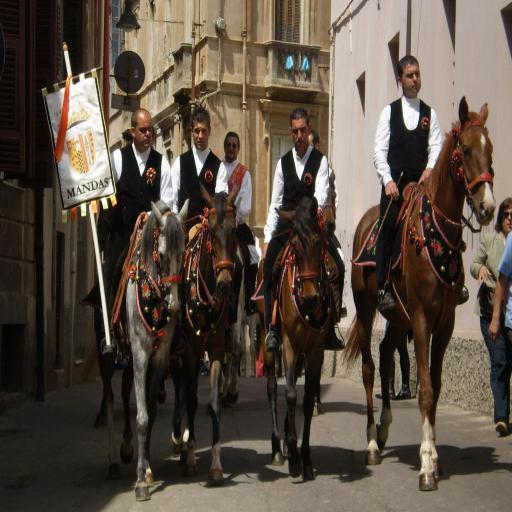horse: (336, 93, 497, 493), (74, 196, 190, 502), (254, 194, 338, 482), (167, 181, 239, 484)
